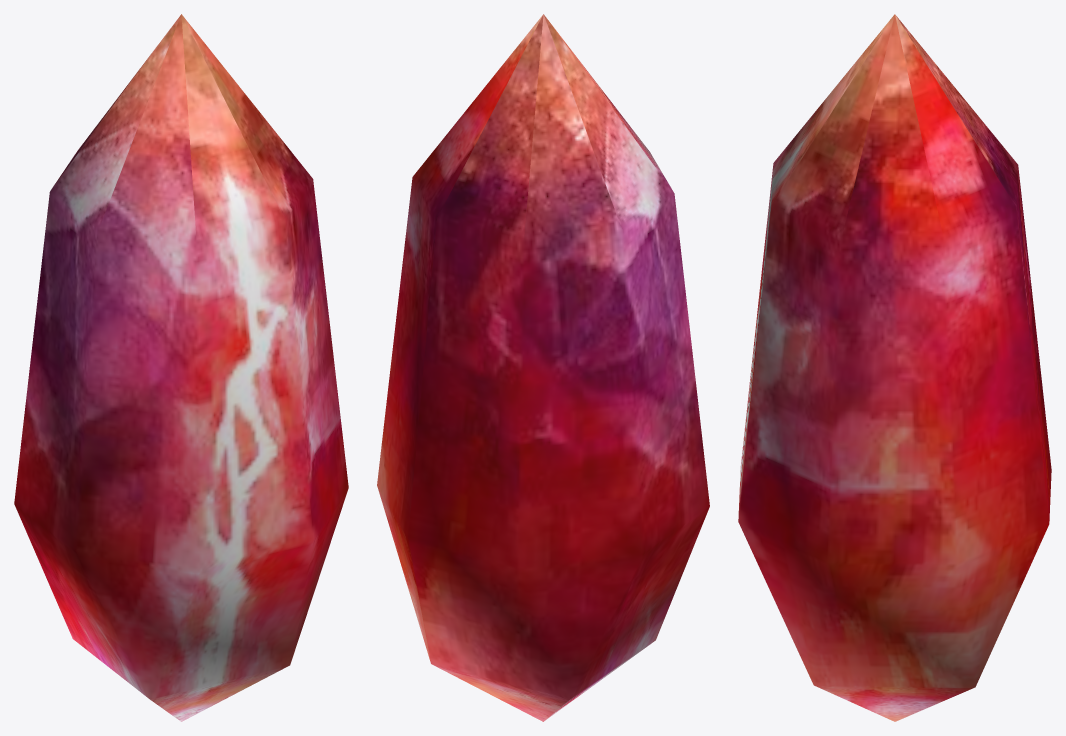
File: red_ins_quest_teleport.glb
3 views of the same model, side by side, from view 1: azimuth 30°, elevation 25°; view 2: azimuth 150°, elevation 25°; view 3: azimuth 270°, elevation 25° (orthographic).
Visible parts, largest first — view 1: res\quest\red_ins_quest_teleport.bsr; view 2: res\quest\red_ins_quest_teleport.bsr; view 3: res\quest\red_ins_quest_teleport.bsr.
Boxes of the visible parts, <box> form: res\quest\red_ins_quest_teleport.bsr: <box>14,14,348,721</box>; res\quest\red_ins_quest_teleport.bsr: <box>377,14,709,721</box>; res\quest\red_ins_quest_teleport.bsr: <box>738,14,1051,721</box>.
Bounding box in the file's own units: 11.25 × 28.06 × 11.25.
Materials: 1 (1 with a texture image).
